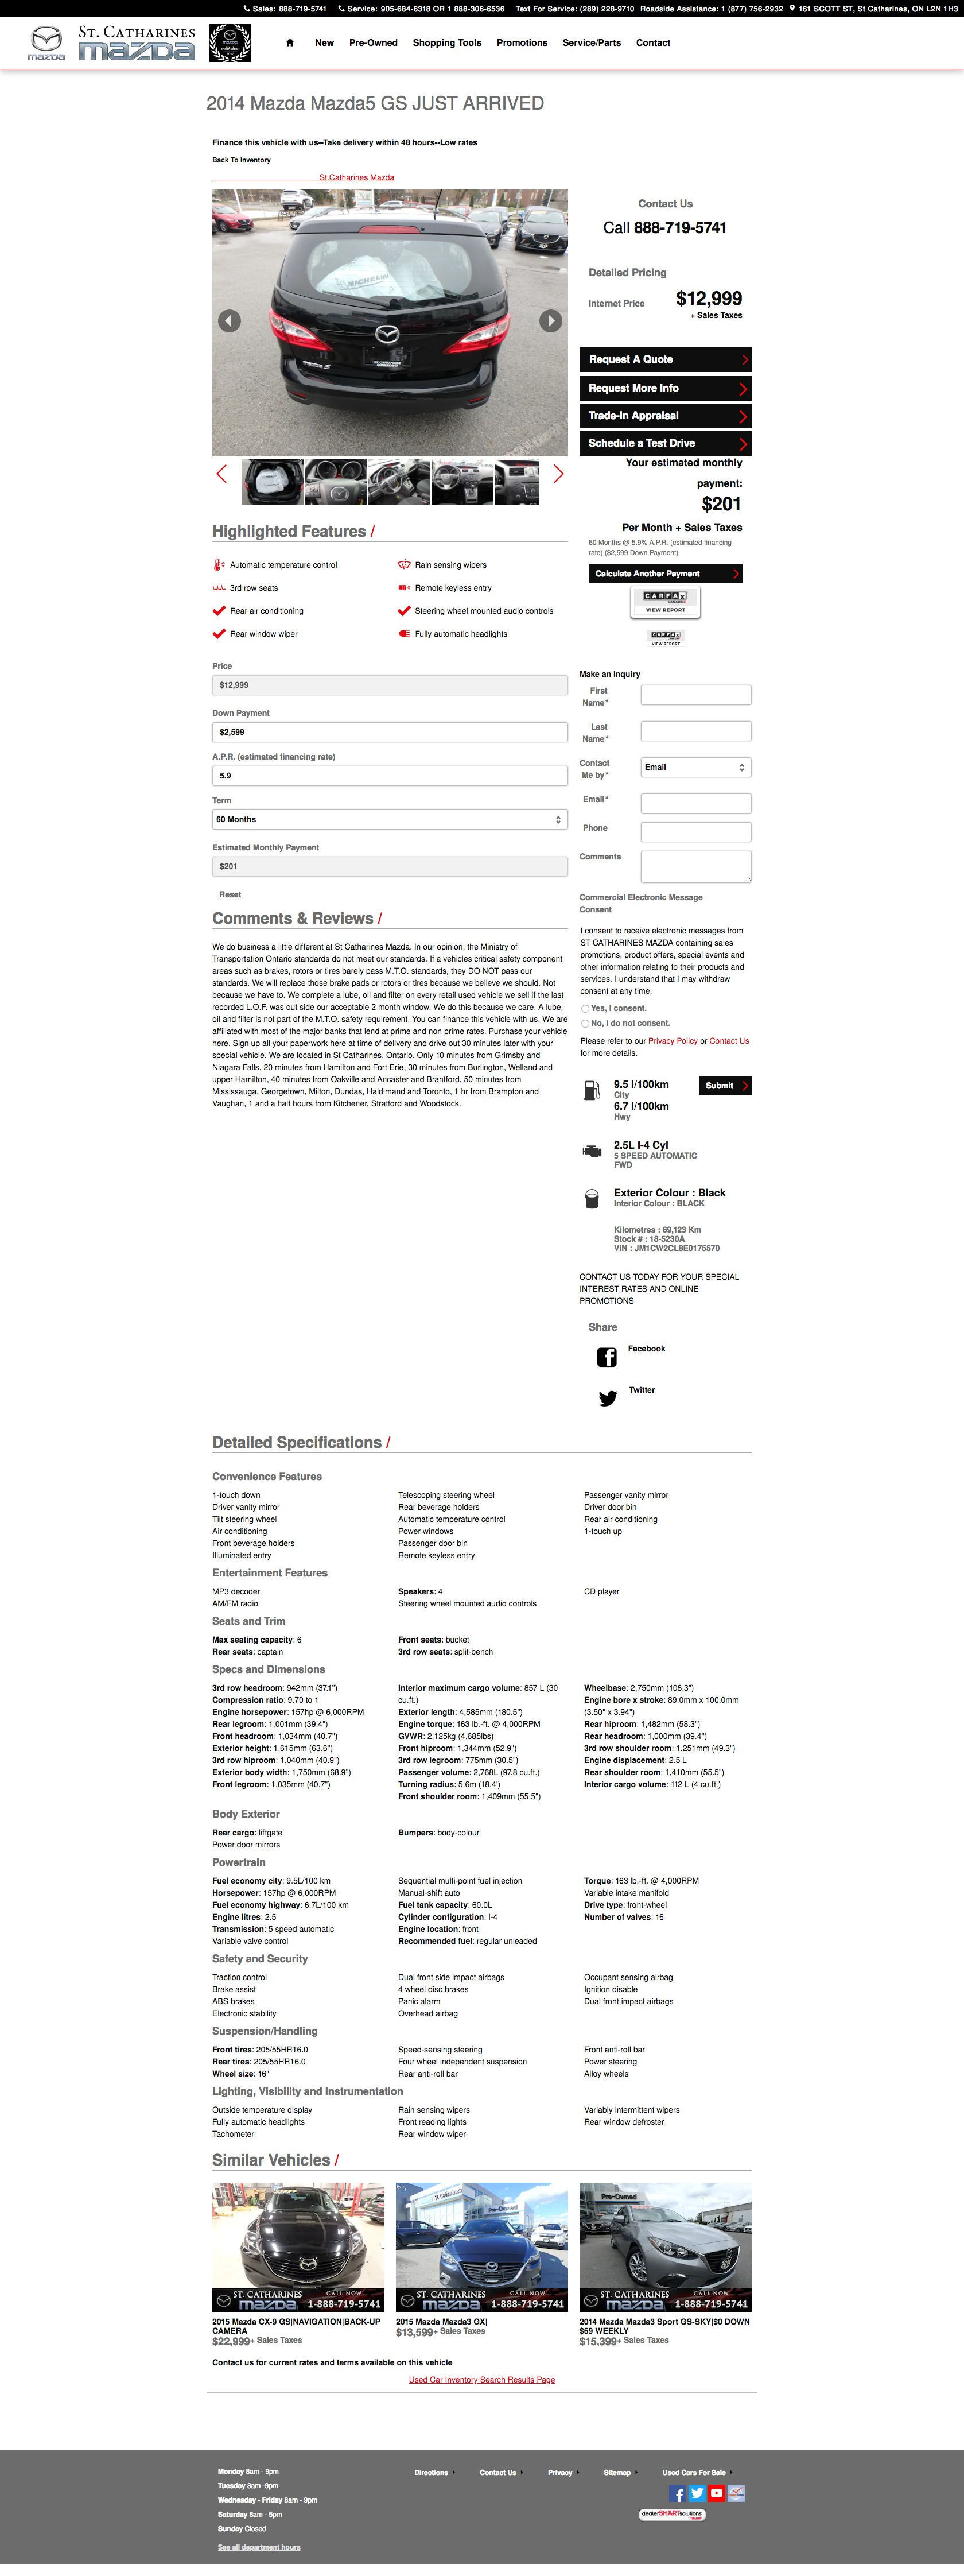car: (552, 465, 565, 485)
